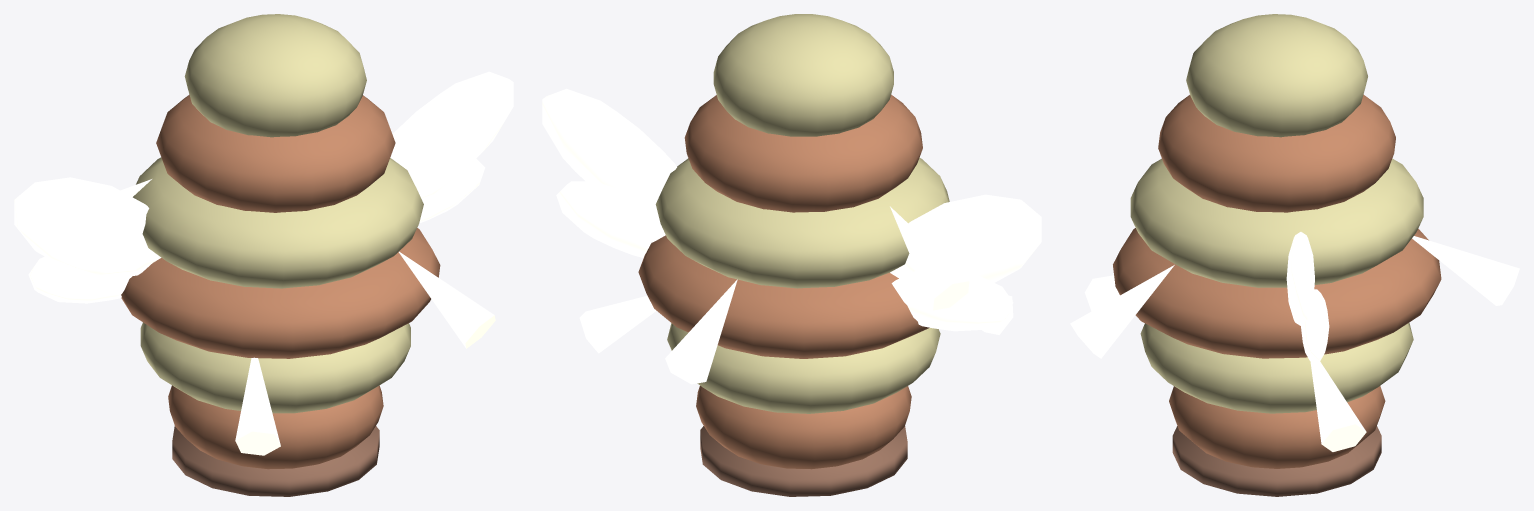
File: egg_desert_03.glb
The picture shows the model from 3 angles, left to right: view 1: azimuth 30°, elevation 25°; view 2: azimuth 150°, elevation 25°; view 3: azimuth 270°, elevation 25°; orthographic projection.
Visible parts, largest first — view 1: ball; view 2: ball; view 3: ball.
Part boxes in pixels (x1,y1,x2,y2): ball: (14,14,513,496); ball: (542,14,1041,496); ball: (1070,14,1519,496).
Size of the model in its own units: 1.2 by 0.99 by 0.9475.
